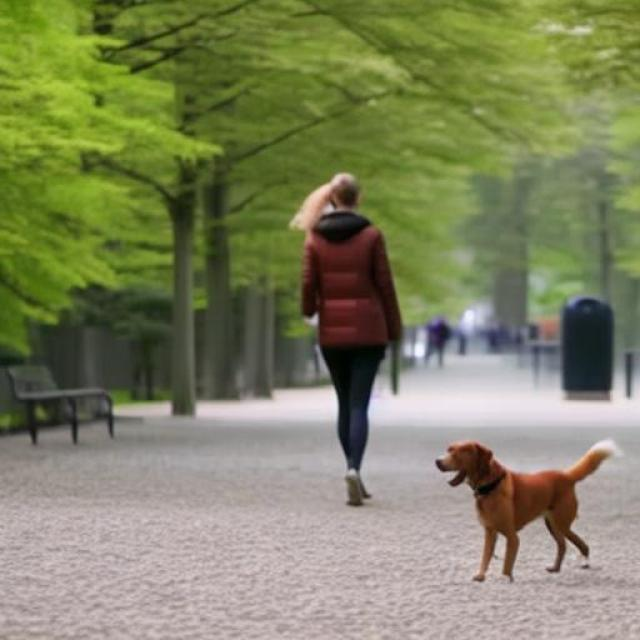Unleashed_Dog: (322, 342, 620, 584)
